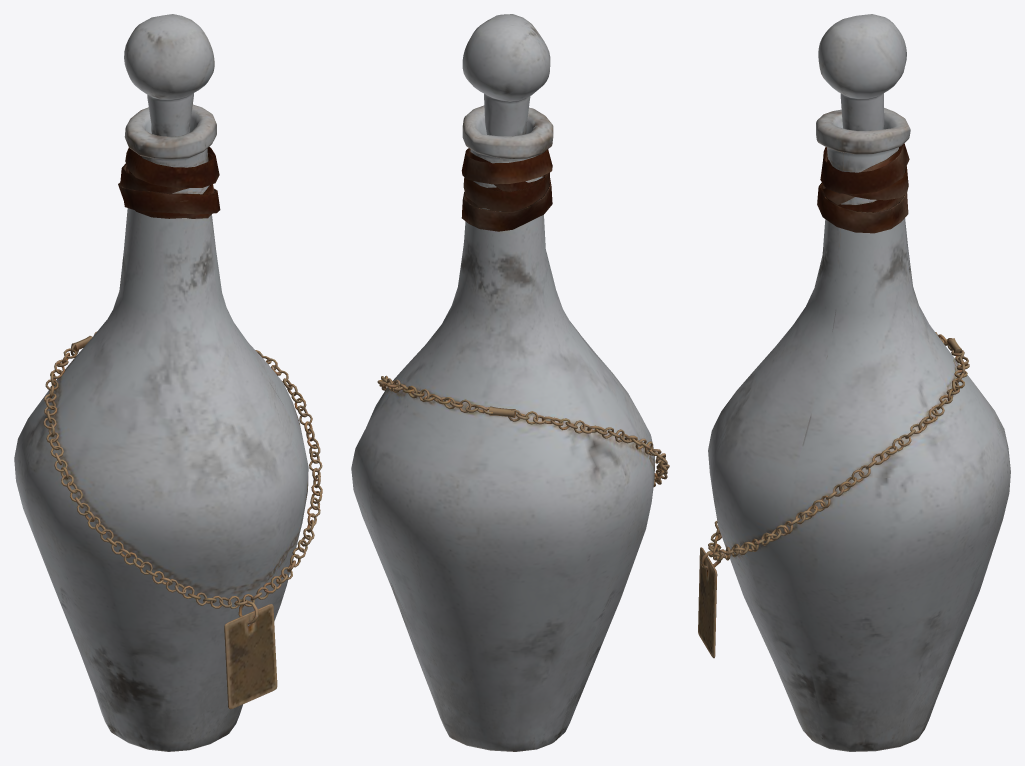
Rendered from Bottle05.fbx.
The picture shows the model from 3 angles, left to right: view 1: azimuth 30°, elevation 25°; view 2: azimuth 150°, elevation 25°; view 3: azimuth 270°, elevation 25°; orthographic projection.
Visible parts, largest first — view 1: KuJ AL Bottle 05.Shape; view 2: KuJ AL Bottle 05.Shape; view 3: KuJ AL Bottle 05.Shape.
Part boxes in pixels (x1=…): KuJ AL Bottle 05.Shape: x1=14, y1=14, x2=322, y2=751; KuJ AL Bottle 05.Shape: x1=351, y1=14, x2=669, y2=751; KuJ AL Bottle 05.Shape: x1=698, y1=14, x2=1010, y2=751.
Size of the model in its own units: 11.22 by 29.39 by 11.72.
3 materials, 2 textured.
